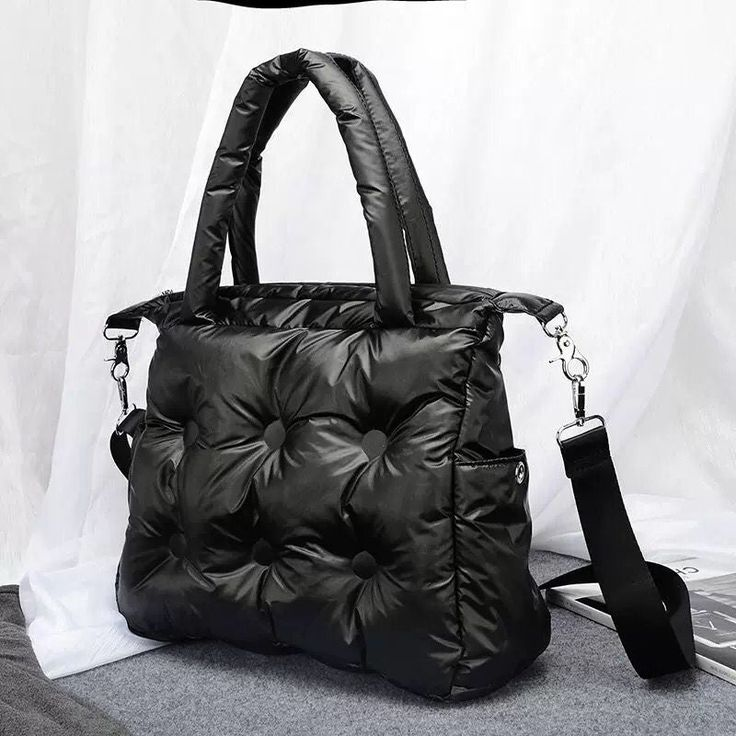nylon: (103, 47, 697, 705)
